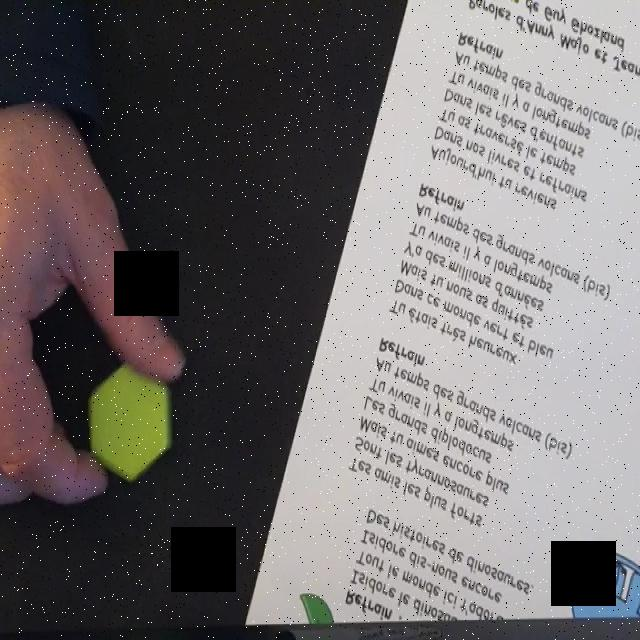hexagon: (90, 361, 172, 484)
